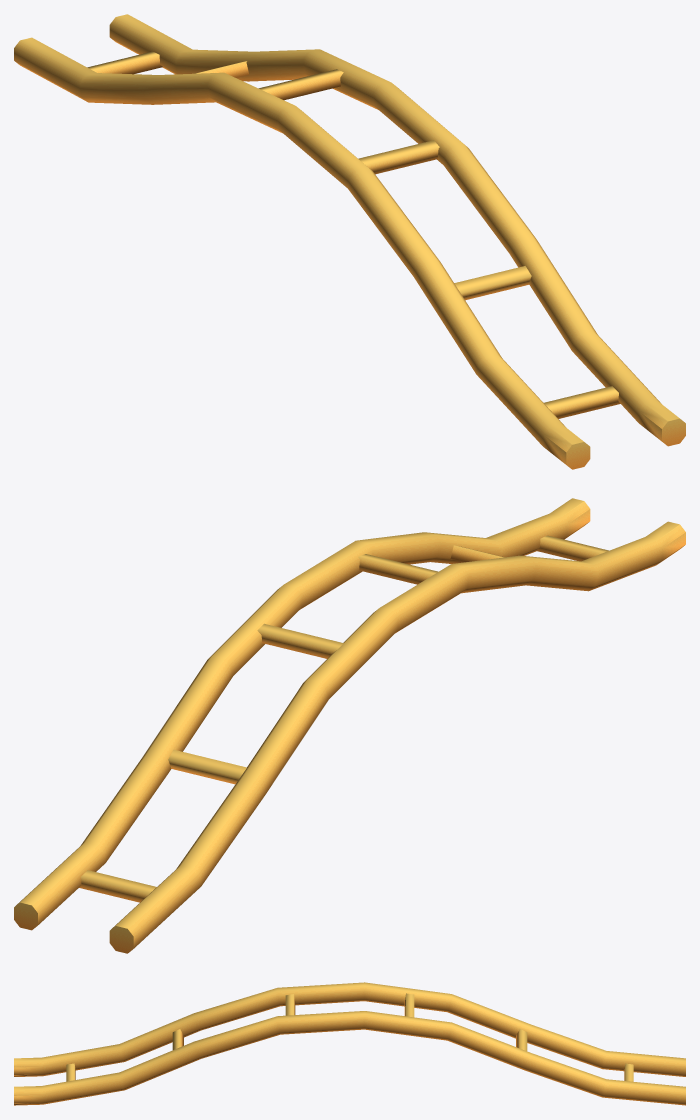
File: coaster-mouse-straight-bump-up.glb
3 views of the same model, one above another, from view 1: azimuth 30°, elevation 25°; view 2: azimuth 150°, elevation 25°; view 3: azimuth 270°, elevation 25° (orthographic). The views are drawn at different scales.
Parts seen in each view (by area): view 1: coaster-mouse-straight-bump-up; view 2: coaster-mouse-straight-bump-up; view 3: coaster-mouse-straight-bump-up.
Part boxes in pixels (x1=…): coaster-mouse-straight-bump-up: x1=14, y1=14, x2=685, y2=469; coaster-mouse-straight-bump-up: x1=14, y1=498, x2=685, y2=953; coaster-mouse-straight-bump-up: x1=14, y1=982, x2=685, y2=1105.
Size of the model in its own units: 1.5 by 1.8 by 12.
1 material, 1 textured.
